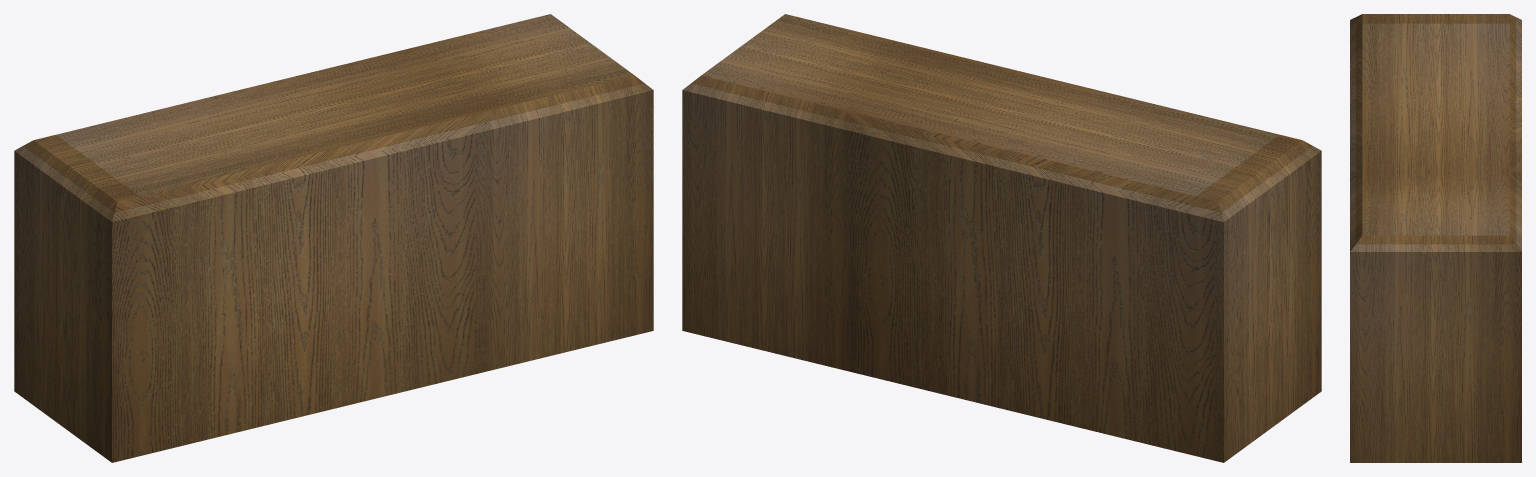
The model's file is Obstacle_016.obj.
3 renders of one model, left to right at view 1: azimuth 30°, elevation 25°; view 2: azimuth 150°, elevation 25°; view 3: azimuth 270°, elevation 25°, orthographic. The views are drawn at different scales.
Parts seen in each view (by area): view 1: Box106; view 2: Box106; view 3: Box106.
Boxes of the visible parts, left/top/right/bottom form: Box106: left=14, top=14, right=653, bottom=462; Box106: left=682, top=14, right=1321, bottom=462; Box106: left=1350, top=14, right=1521, bottom=462.
Bounding box in the file's own units: 88.09 × 39.37 × 27.56.
